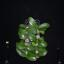leaf: (28, 18, 38, 28), (16, 47, 26, 57), (18, 30, 28, 39), (28, 32, 37, 42), (36, 40, 48, 47), (26, 28, 38, 34), (36, 50, 48, 56), (27, 49, 37, 56), (26, 55, 37, 61), (38, 23, 50, 28), (16, 43, 26, 49), (26, 45, 36, 51), (36, 46, 46, 51), (38, 27, 45, 34), (19, 24, 27, 30), (37, 37, 44, 42), (38, 26, 46, 30), (20, 40, 25, 46), (32, 42, 36, 46), (36, 54, 40, 56)
